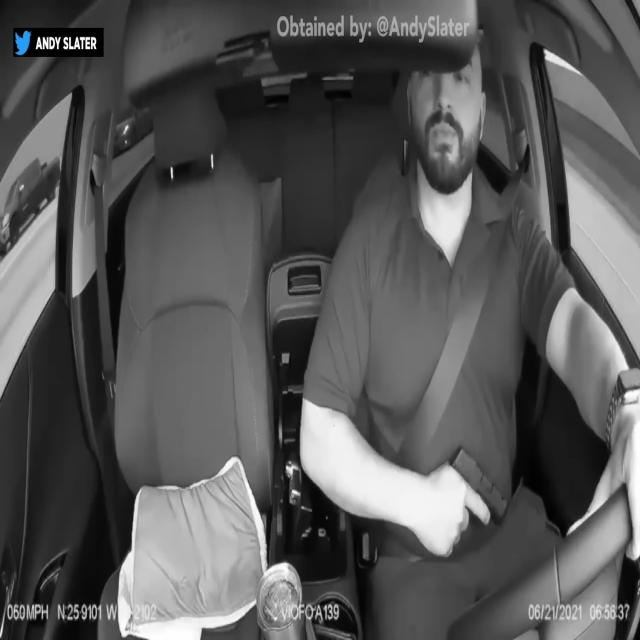senjata_api: (451, 445, 508, 524)
